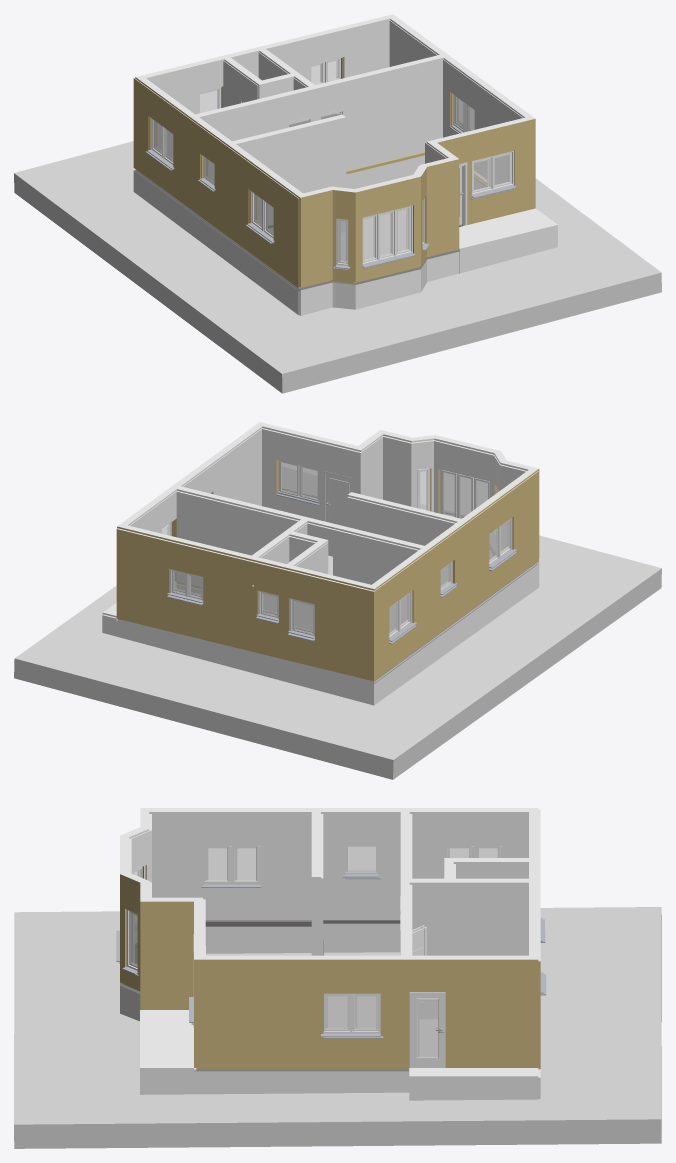
Rendered from mimi.glb.
3 renders of one model, top to bottom at view 1: azimuth 30°, elevation 25°; view 2: azimuth 150°, elevation 25°; view 3: azimuth 270°, elevation 25°, orthographic. The views are drawn at different scales.
Visible parts, largest first — view 1: walls.001, Cube, walls.002, Plane.015, Window, Window.010, Window.019, Window.011, Window.003, Window.026, Window.005, Window.012 (+3 smaller); view 2: walls.002, Cube, walls.001, Window.019, Window.011, Door.004, Window, Window.013, Window.010, Window.015, Window.005, Window.016 (+6 smaller); view 3: walls.001, Cube, walls.002, Plane.015, Plane.016, Window.009, Window.026, Door.005, Window.012, Window.005, Door.006, Window.030 (+5 smaller).
Part boxes in pixels (<box>): walls.001: <box>135,14,535,315</box>; Cube: <box>14,121,661,393</box>; walls.002: <box>133,20,523,315</box>; Plane.015: <box>458,208,557,273</box>; Window: <box>362,205,415,268</box>; Window.010: <box>472,151,516,198</box>; Window.019: <box>362,208,413,269</box>; Window.011: <box>471,154,514,199</box>; Window.003: <box>147,118,174,169</box>; Window.026: <box>247,192,274,242</box>; Window.005: <box>245,193,273,243</box>; Window.012: <box>449,94,474,133</box>; walls.002: <box>116,428,538,705</box>; Cube: <box>14,467,661,779</box>; walls.001: <box>117,422,539,683</box>; Window.019: <box>440,469,489,518</box>; Window.011: <box>276,460,319,505</box>; Door.004: <box>325,473,352,526</box>; Window: <box>443,473,487,517</box>; Window.013: <box>167,569,203,605</box>; Window.010: <box>277,462,319,502</box>; Window.015: <box>287,598,314,641</box>; Window.005: <box>489,518,516,570</box>; Window.016: <box>389,591,416,644</box>; walls.001: <box>120,808,538,1094</box>; Cube: <box>14,907,661,1148</box>; walls.002: <box>123,809,540,1069</box>; Plane.015: <box>140,1010,193,1094</box>; Plane.016: <box>409,1068,538,1100</box>; Window.009: <box>321,993,380,1037</box>; Window.026: <box>201,846,260,887</box>; Door.005: <box>415,996,442,1066</box>; Window.012: <box>323,993,383,1038</box>; Window.005: <box>205,846,260,884</box>; Door.006: <box>415,999,442,1067</box>; Window.030: <box>343,846,378,877</box>.
Size of the model in its own units: 13.3 by 4.7 by 16.28.
